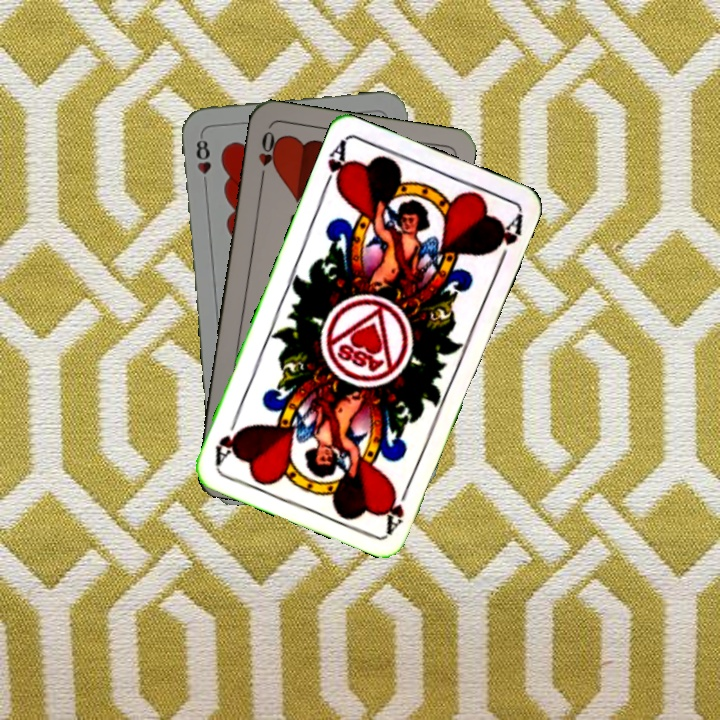H8: (192, 131, 214, 190)
HA: (318, 137, 352, 195), (381, 477, 414, 535)
HO: (255, 127, 281, 184)
